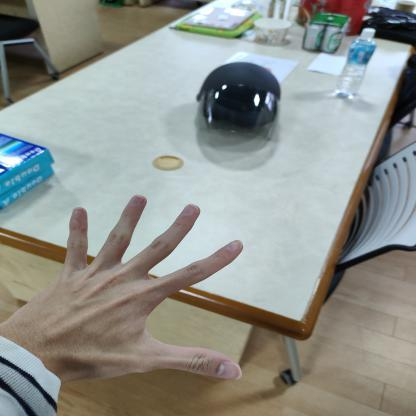bare_hand: (5, 184, 261, 398)
